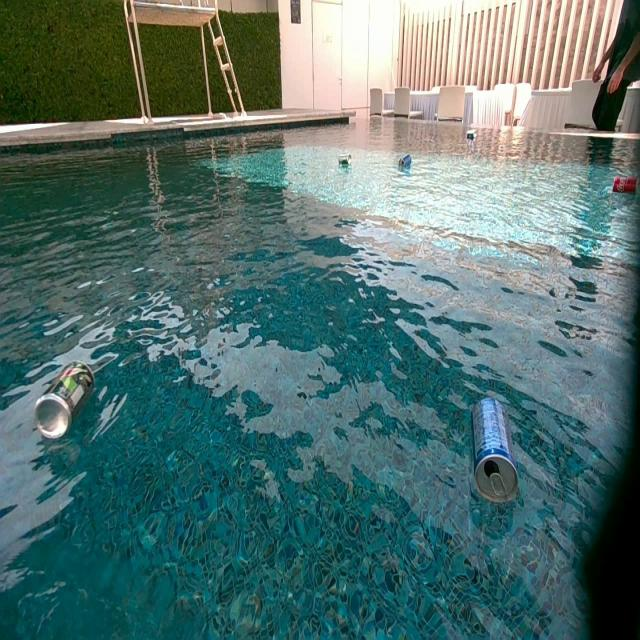Cans: (473, 397, 519, 503), (37, 358, 96, 439), (614, 177, 639, 196), (338, 155, 353, 171), (399, 153, 411, 168), (465, 130, 476, 141)
